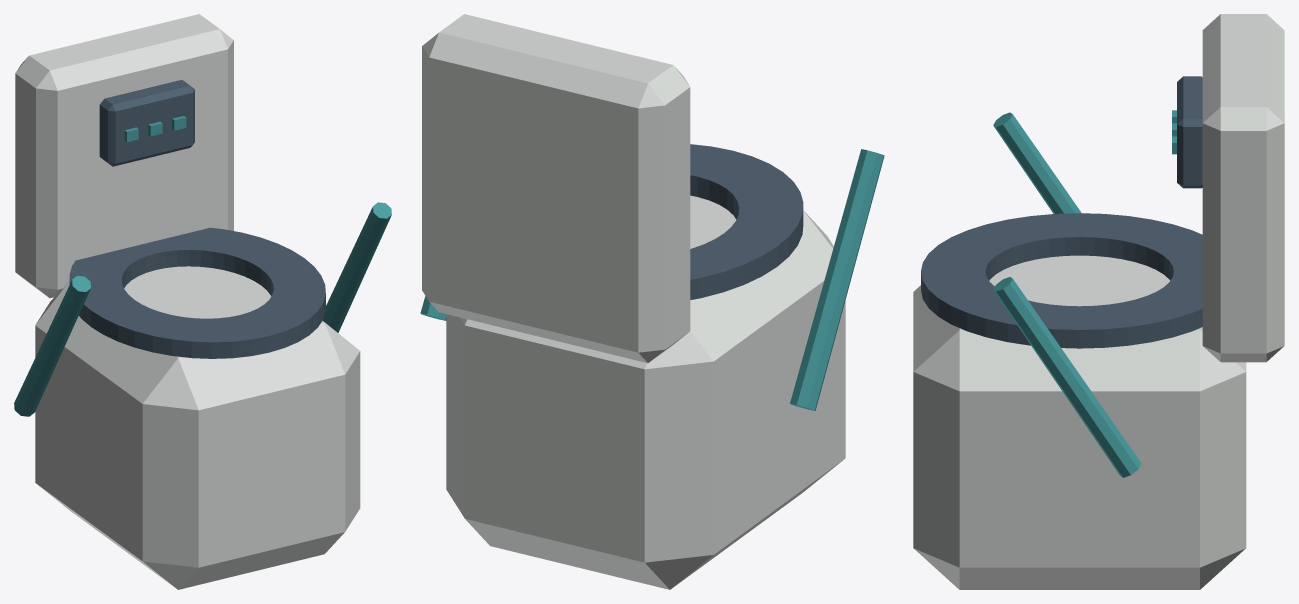
3 renders of one model, left to right at view 1: azimuth 30°, elevation 25°; view 2: azimuth 150°, elevation 25°; view 3: azimuth 270°, elevation 25°, orthographic. The views are drawn at different scales.
Visible parts, largest first — view 1: MI-012 Restrained sanitation seat batched; view 2: MI-012 Restrained sanitation seat batched; view 3: MI-012 Restrained sanitation seat batched.
Boxes of the visible parts, x1,y1,x2,y2 form: MI-012 Restrained sanitation seat batched: (14,14,391,589); MI-012 Restrained sanitation seat batched: (420,14,884,589); MI-012 Restrained sanitation seat batched: (913,14,1284,589).
Bounding box in the file's own units: 0.81 × 1.05 × 0.725.
